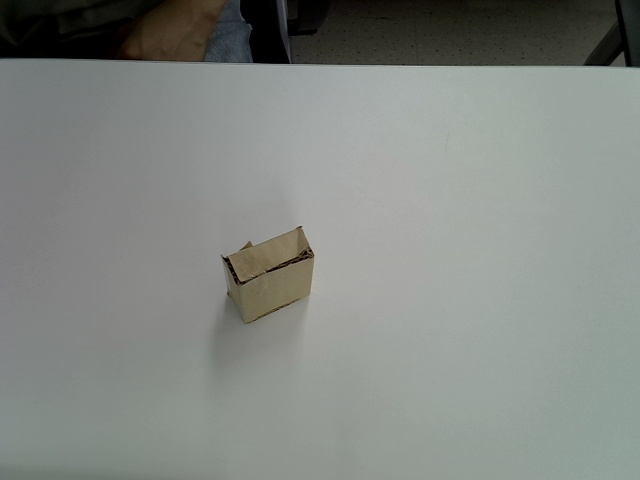defect: (220, 221, 315, 324)
